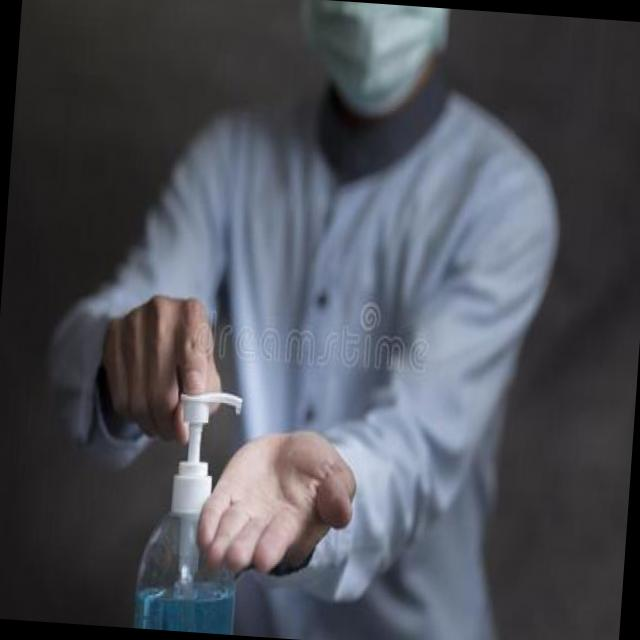sanitizer: (130, 374, 252, 626)
